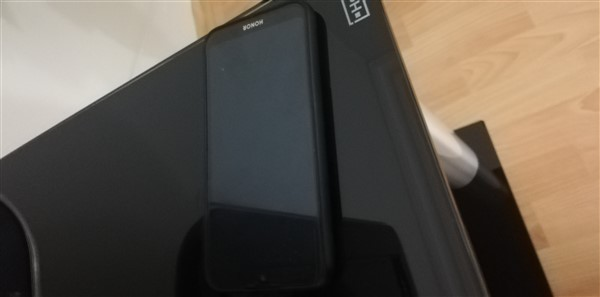telefon: (192, 12, 349, 295)
